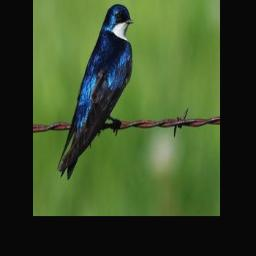Swallow: (56, 3, 134, 180)
